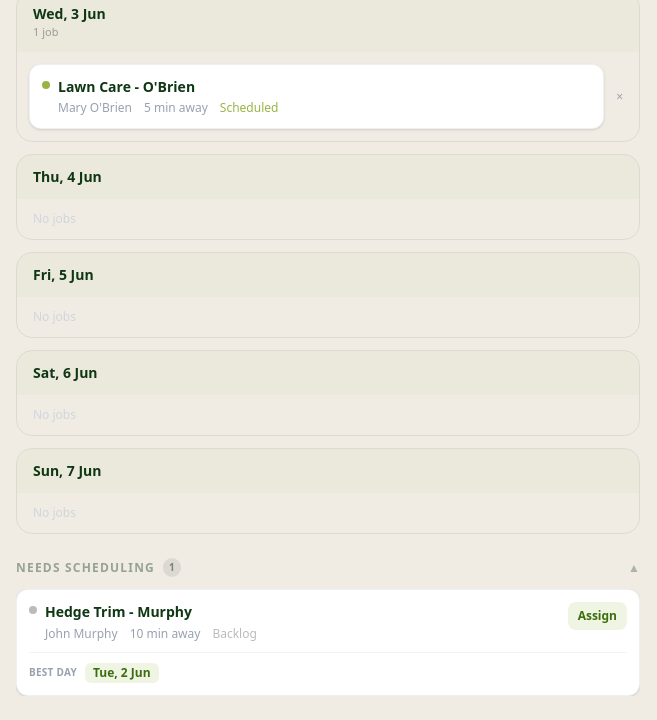
it: Schedule — assigning a date › expands day picker when Assign is clicked
(page scrolled)
What coordinates should you click on to do the following:
click the button "Assign"
I would click on:
 (597, 616)
Its box is [568, 602, 627, 630].
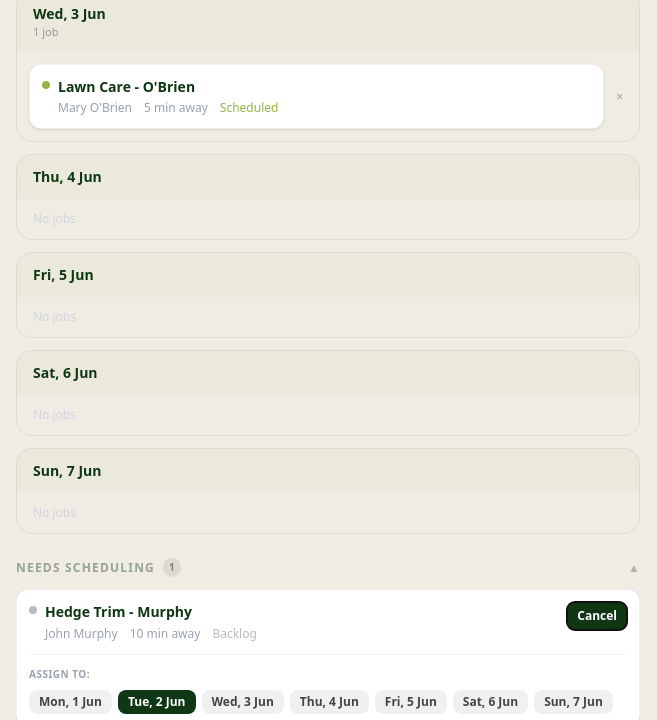
Result: the text "Assign to:" is shown at [29, 666, 90, 680]
